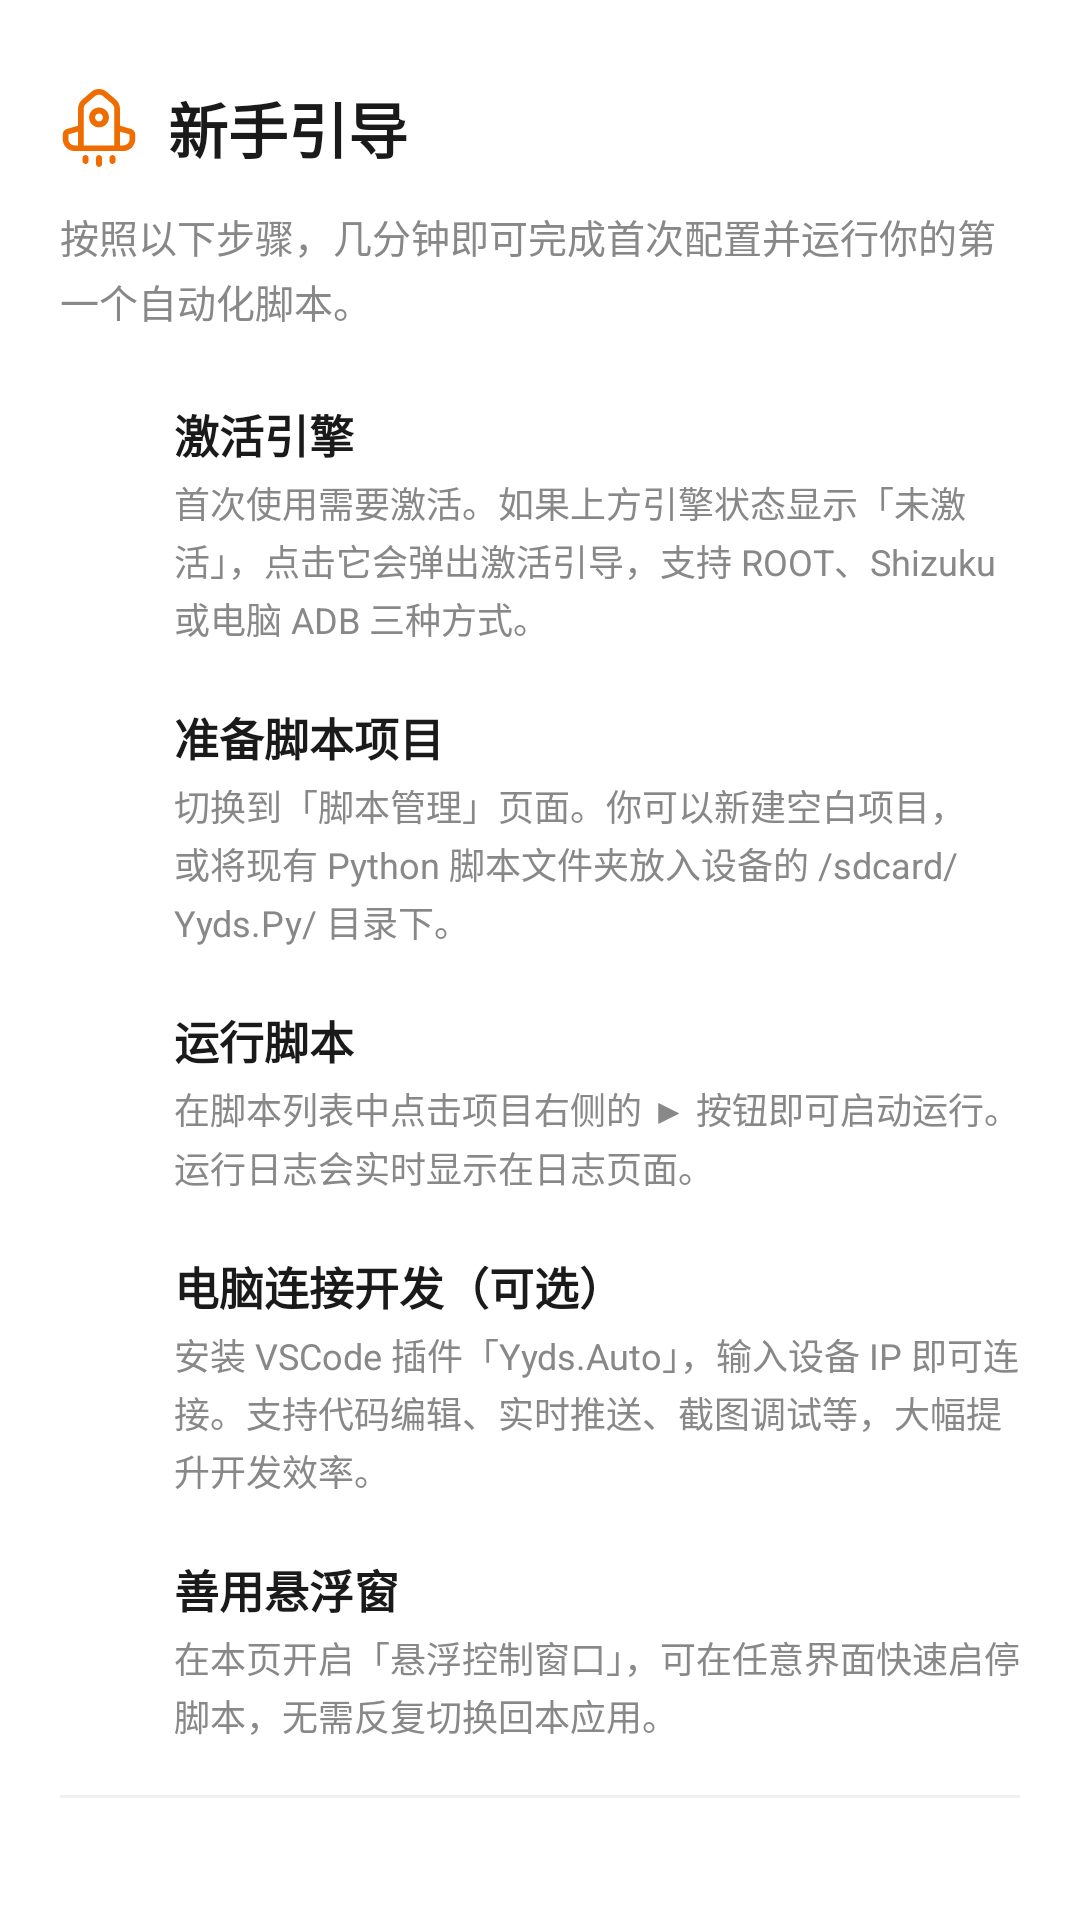

Icons on this 1080px×1920px Android screen, each with its box as (x1, y1, x2, y2):
launch: (62, 89, 136, 167)
